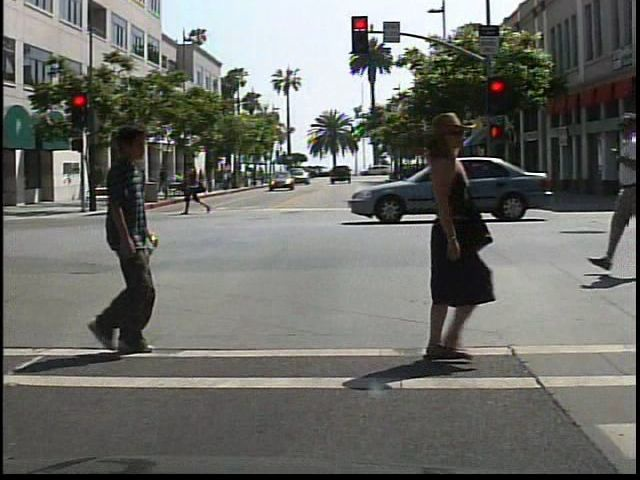person: (383, 116, 514, 363), (60, 124, 199, 356), (178, 156, 215, 218), (134, 164, 155, 206)
